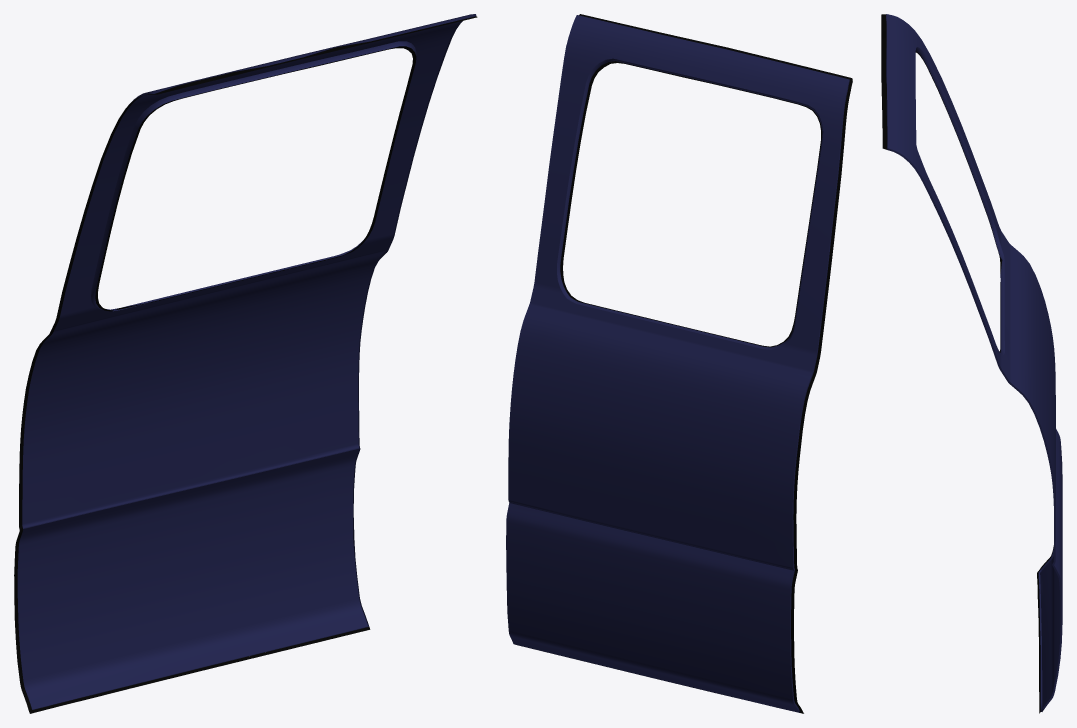
3 renders of one model, left to right at view 1: azimuth 30°, elevation 25°; view 2: azimuth 150°, elevation 25°; view 3: azimuth 270°, elevation 25°, orthographic. The views are drawn at different scales.
Parts seen in each view (by area): view 1: U803_3A_301B_L_1_DaS_U803_3A_301B_L, U803_3A_301B_L_U803_3A_301B_L_2_D, U803_3A_301B_L_1_DaS_U803_3A_301B_L_E; view 2: U803_3A_301B_L_1_DaS_U803_3A_301B_L, U803_3A_301B_L_U803_3A_301B_L_2_D, U803_3A_301B_L_1_DaS_U803_3A_301B_L_E; view 3: U803_3A_301B_L_1_DaS_U803_3A_301B_L, U803_3A_301B_L_1_DaS_U803_3A_301B_L_E, U803_3A_301B_L_U803_3A_301B_L_2_D.
Boxes of the visible parts, x1=… form: U803_3A_301B_L_1_DaS_U803_3A_301B_L: x1=17, y1=14, x2=474, y2=709; U803_3A_301B_L_U803_3A_301B_L_2_D: x1=14, y1=16, x2=477, y2=713; U803_3A_301B_L_1_DaS_U803_3A_301B_L_E: x1=23, y1=14, x2=476, y2=709; U803_3A_301B_L_1_DaS_U803_3A_301B_L: x1=506, y1=15, x2=849, y2=712; U803_3A_301B_L_U803_3A_301B_L_2_D: x1=517, y1=14, x2=852, y2=713; U803_3A_301B_L_1_DaS_U803_3A_301B_L_E: x1=509, y1=58, x2=849, y2=712; U803_3A_301B_L_1_DaS_U803_3A_301B_L: x1=886, y1=14, x2=1062, y2=708; U803_3A_301B_L_1_DaS_U803_3A_301B_L_E: x1=886, y1=15, x2=1062, y2=711; U803_3A_301B_L_U803_3A_301B_L_2_D: x1=881, y1=14, x2=1053, y2=713.
Size of the model in its own units: 69.4 by 125 by 35.9.
